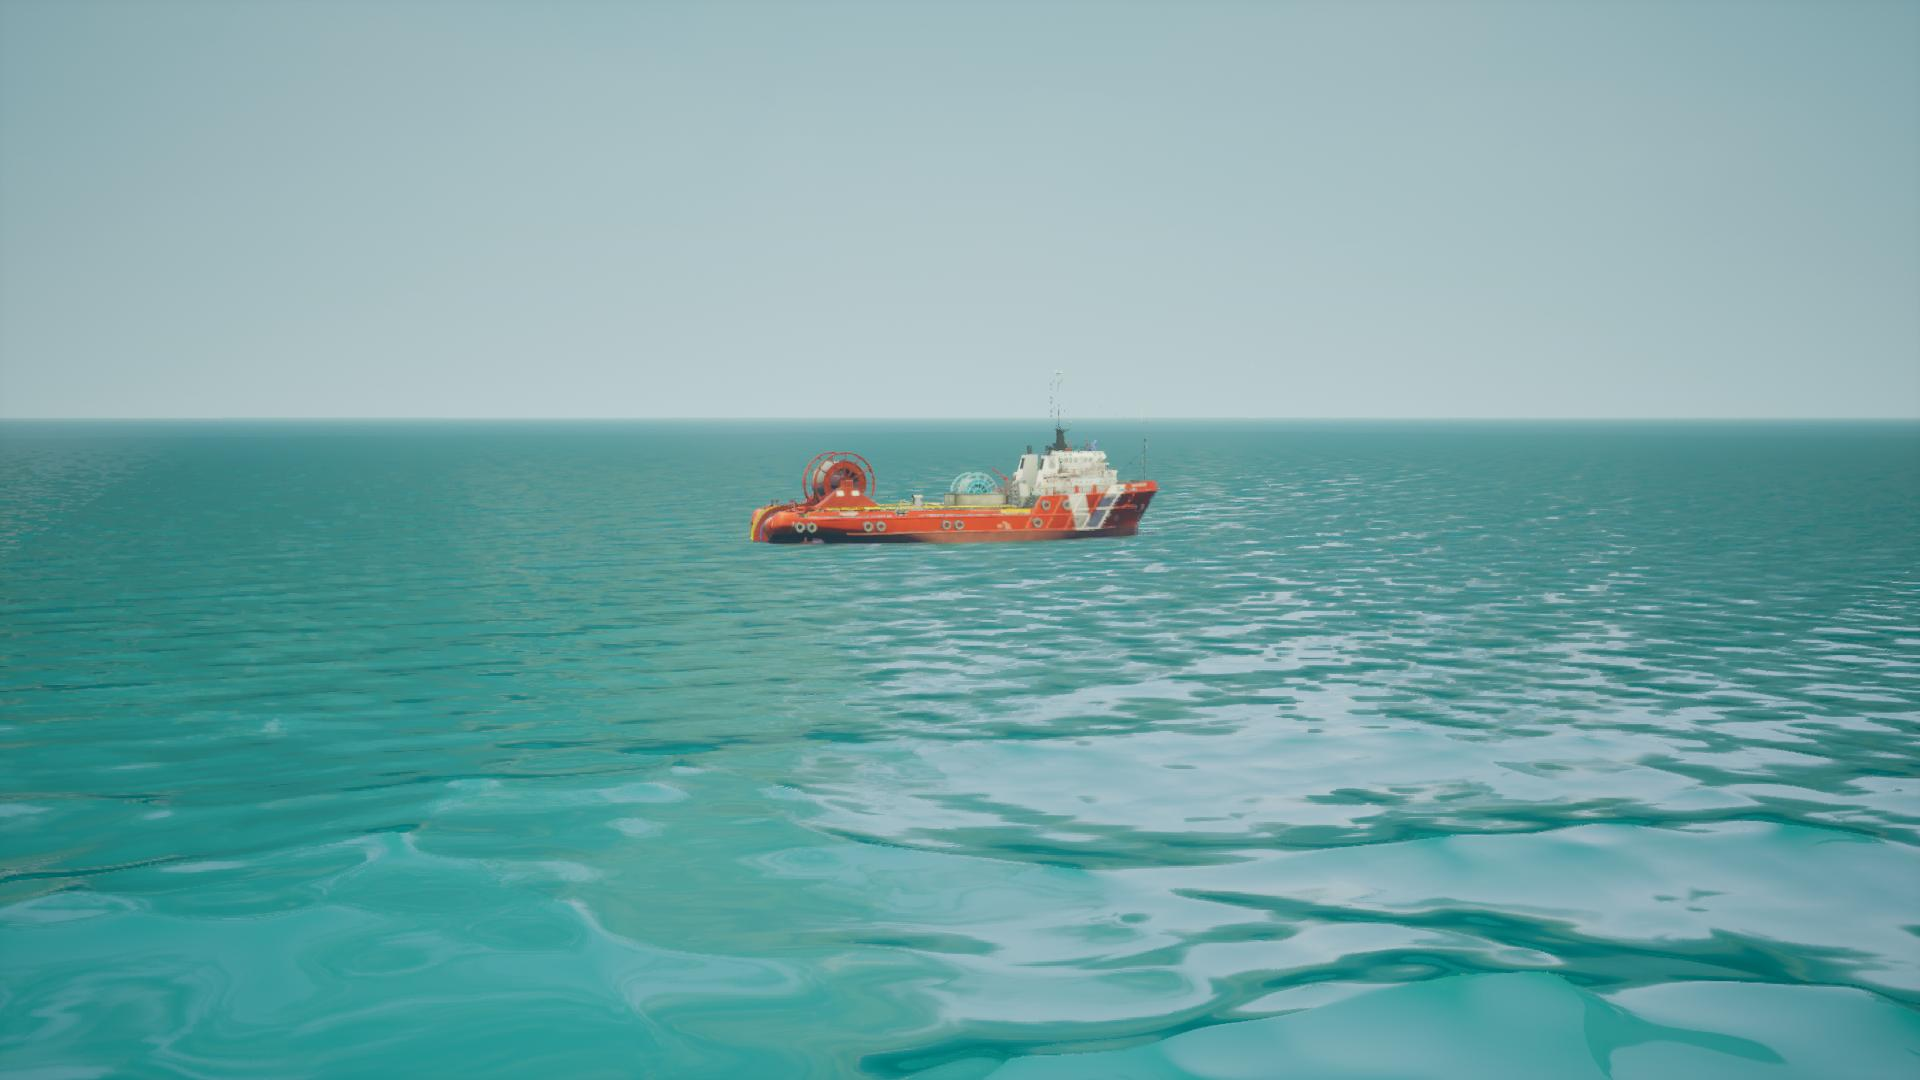Tug Boat: (750, 381, 1162, 547)
